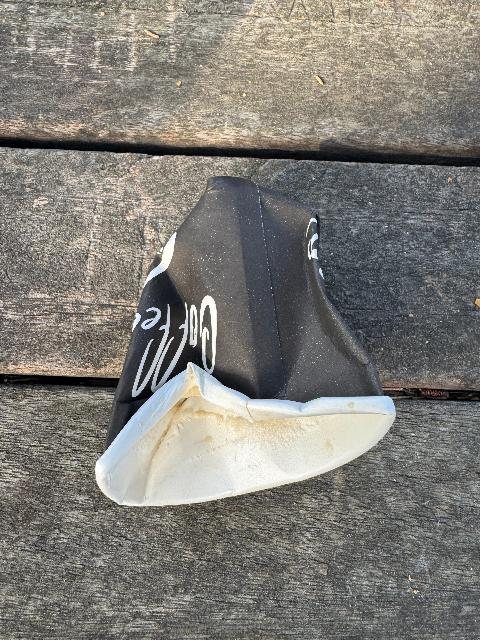Kagit: (104, 180, 399, 514)
